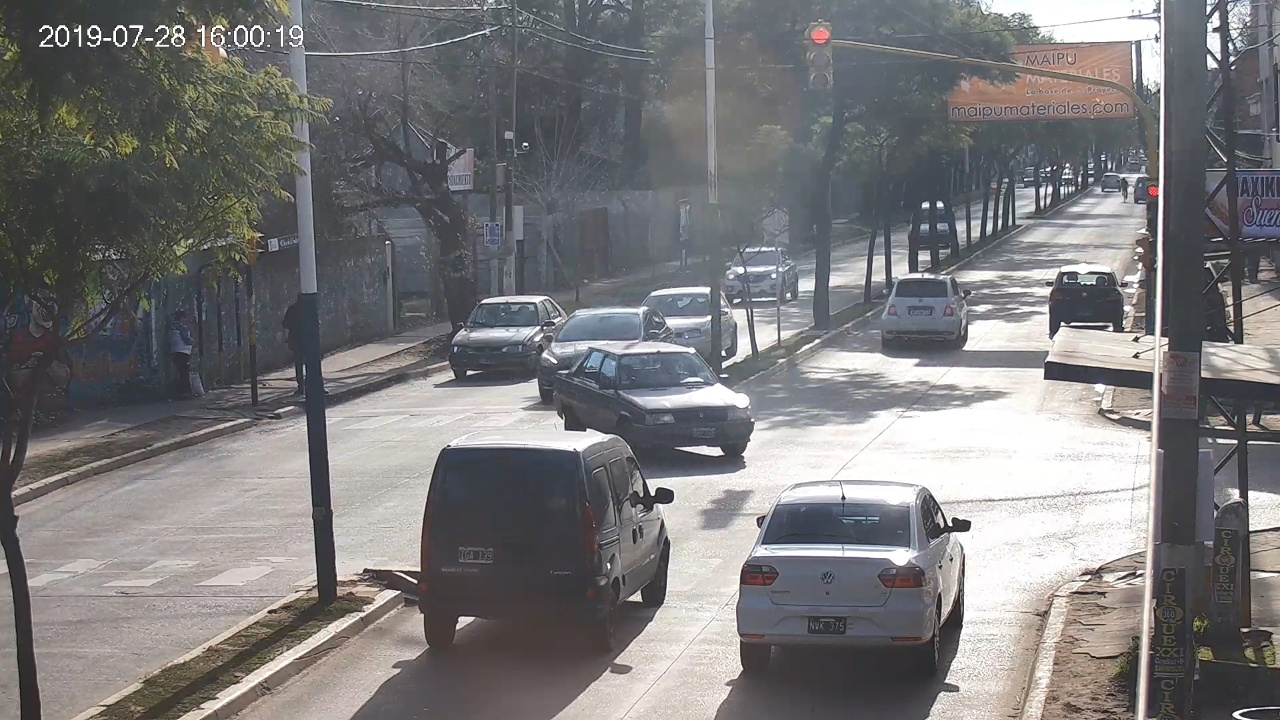car: (418, 434, 675, 646), (736, 480, 971, 672), (881, 273, 972, 346)
front car: (554, 342, 755, 457)
traffic light: (809, 23, 831, 89), (1145, 181, 1158, 229)
